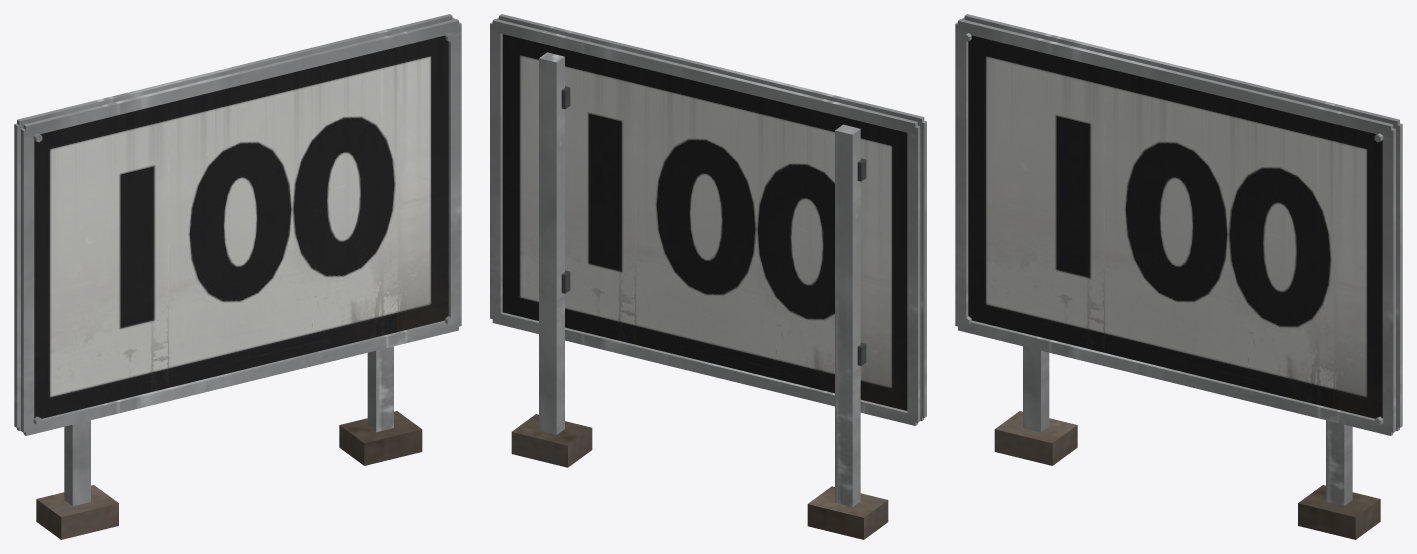
File: board_100.glb
3 renders of one model, left to right at view 1: azimuth 30°, elevation 25°; view 2: azimuth 150°, elevation 25°; view 3: azimuth 330°, elevation 25°, orthographic. The views are drawn at different scales.
Visible parts, largest first — view 1: board_100; view 2: board_100; view 3: board_100.
Part boxes in pixels (bbox=[...]): board_100: bbox=[14, 14, 461, 539]; board_100: bbox=[490, 14, 926, 539]; board_100: bbox=[955, 14, 1402, 539].
Size of the model in its own units: 1.21 by 1.12 by 0.136.
Materials: 4 (4 with a texture image).
